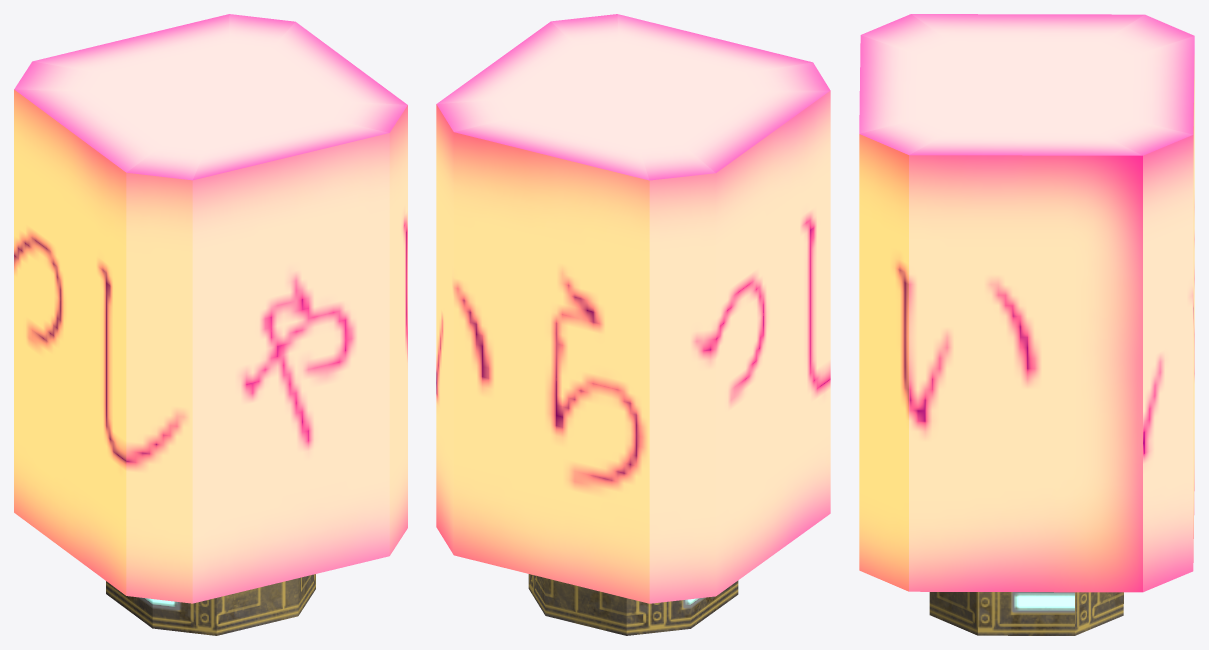
The model's file is Japanese_Sign_03.glb.
3 views of the same model, side by side, from view 1: azimuth 30°, elevation 25°; view 2: azimuth 150°, elevation 25°; view 3: azimuth 270°, elevation 25° (orthographic). The views are drawn at different scales.
Parts seen in each view (by area): view 1: Japanese_Sign_03; view 2: Japanese_Sign_03; view 3: Japanese_Sign_03.
Boxes of the visible parts, bbox=[...] form: Japanese_Sign_03: bbox=[14, 14, 407, 635]; Japanese_Sign_03: bbox=[436, 14, 830, 635]; Japanese_Sign_03: bbox=[859, 14, 1194, 635].
Bounding box in the file's own units: 0.2842 × 0.4766 × 0.2842.
2 materials, 1 textured.
